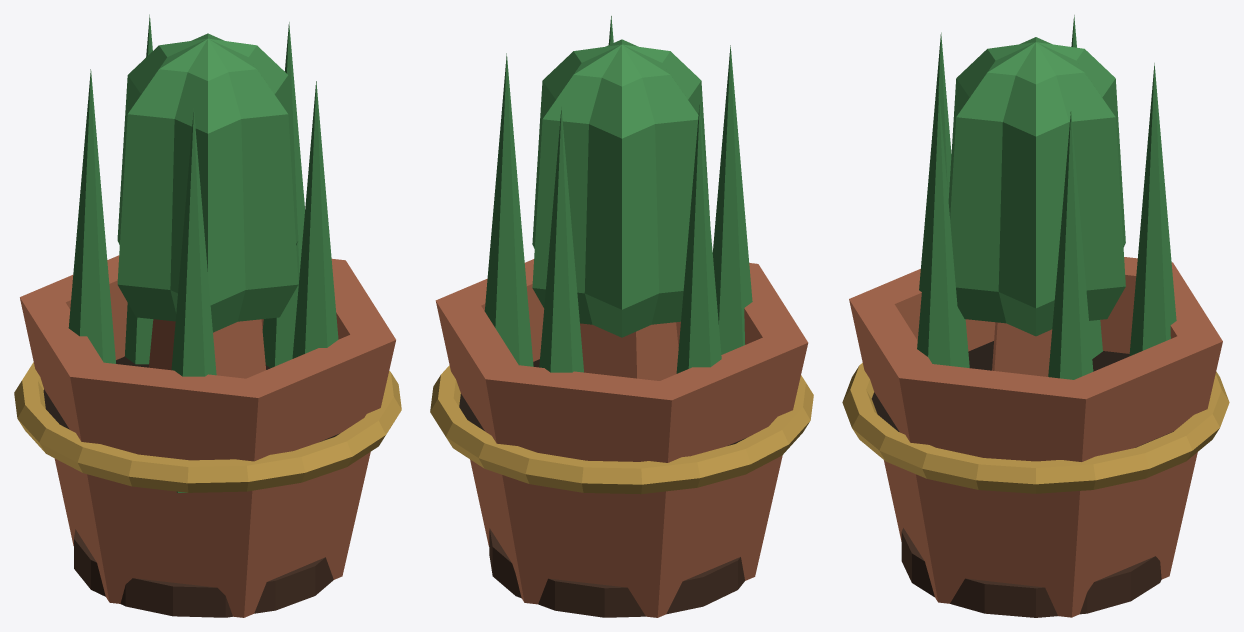
Rendered from plantSmall2.glb.
3 renders of one model, left to right at view 1: azimuth 30°, elevation 25°; view 2: azimuth 150°, elevation 25°; view 3: azimuth 270°, elevation 25°, orthographic.
Parts seen in each view (by area): view 1: plantSmall2(Clone); view 2: plantSmall2(Clone); view 3: plantSmall2(Clone).
Boxes of the visible parts, x1,y1,x2,y2 form: plantSmall2(Clone): (14,14,401,617); plantSmall2(Clone): (430,16,813,617); plantSmall2(Clone): (842,15,1229,617).
Size of the model in its own units: 0.0947 by 0.14 by 0.0947.
